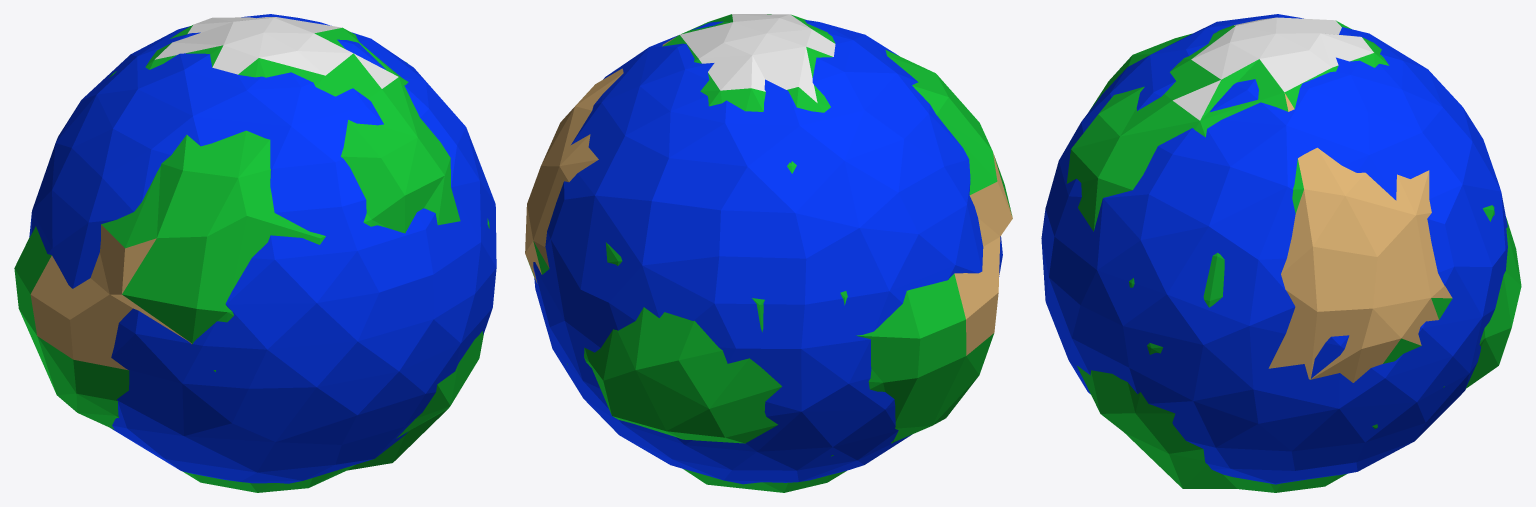
The model's file is earth.fbx.
3 views of the same model, side by side, from view 1: azimuth 30°, elevation 25°; view 2: azimuth 150°, elevation 25°; view 3: azimuth 270°, elevation 25° (orthographic).
Visible parts, largest first — view 1: Sphere, Sphere.001; view 2: Sphere, Sphere.001; view 3: Sphere, Sphere.001.
Boxes of the visible parts, x1,y1,x2,y2 form: Sphere: (29, 14, 496, 483); Sphere.001: (14, 17, 489, 492); Sphere: (533, 19, 1002, 484); Sphere.001: (525, 14, 1012, 492); Sphere: (1041, 14, 1507, 484); Sphere.001: (1066, 17, 1521, 492).
Bounding box in the file's own units: 404 × 401 × 399.
